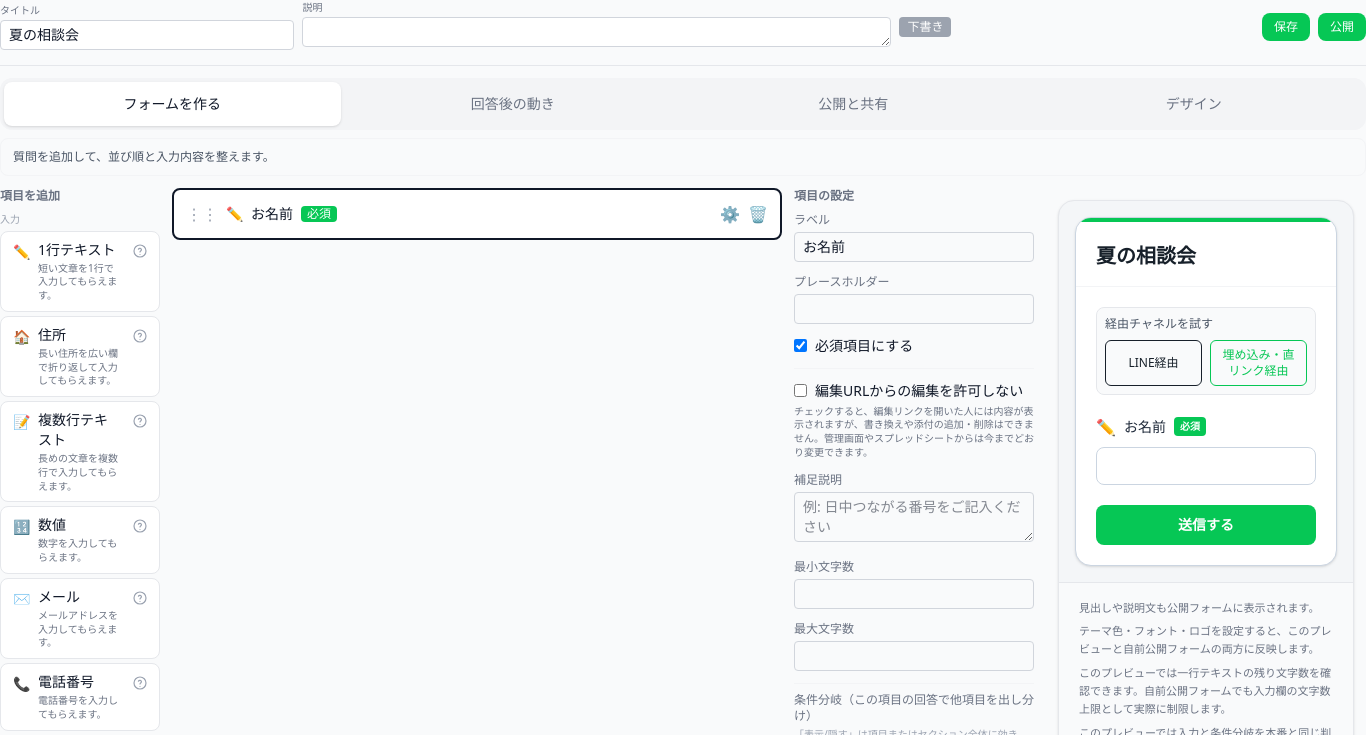
it: internal publish confirmation › keeps the modal open and never publishes when the preceding save is not confirmed
Click the button "公開". click: (1342, 26)
box: x1=1318 y1=12 x2=1365 y2=40
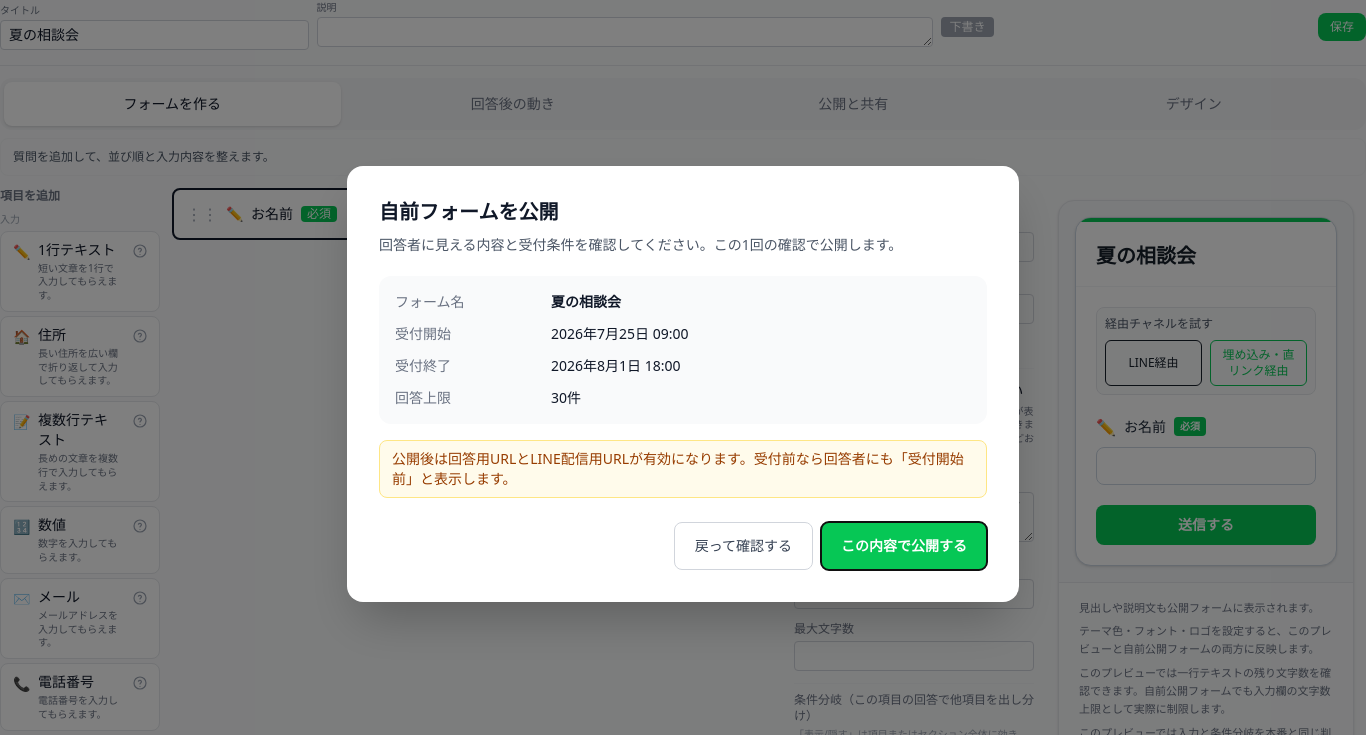
Click the button "この内容で公開する". click: (904, 546)
box: x1=821 y1=522 x2=987 y2=570
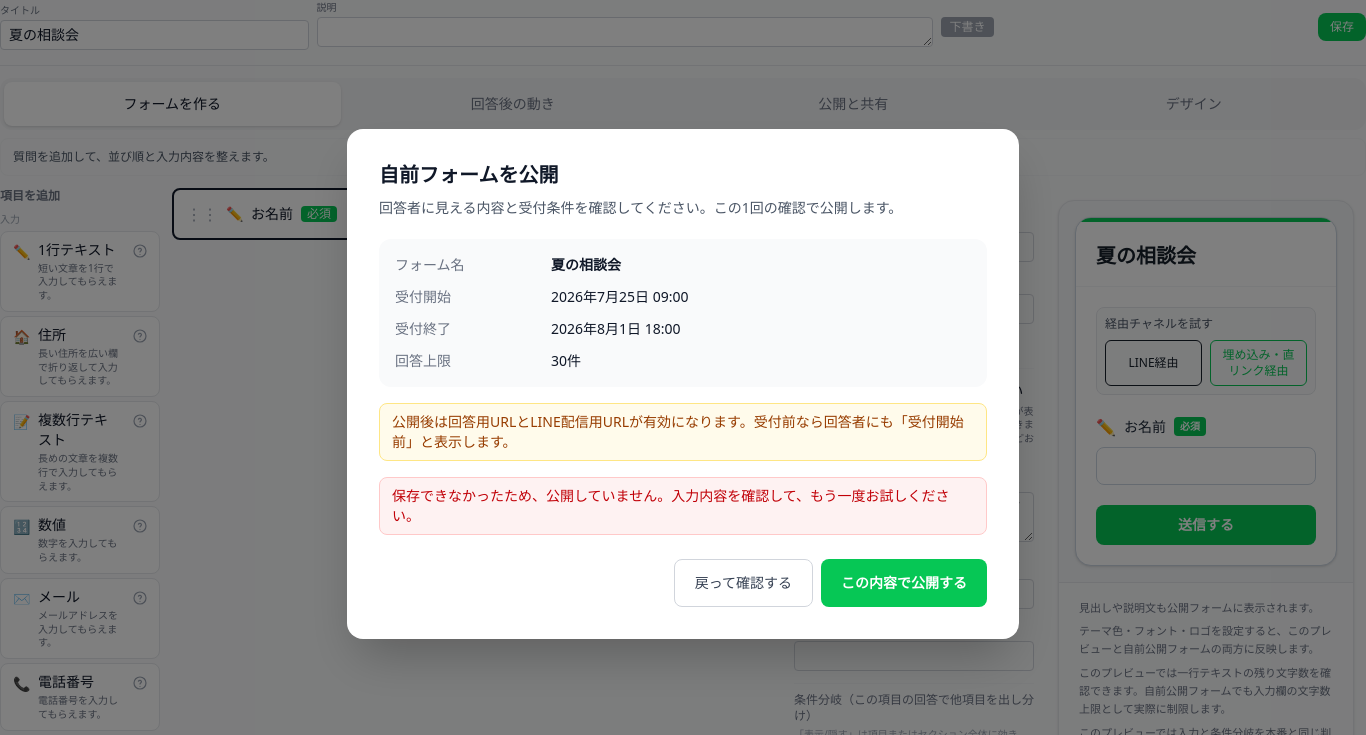
Now the dialog "自前フォームを公開" is shown, box x1=347 y1=129 x2=1019 y2=639
Now the message shows "公開していません", box x1=392 y1=486 x2=950 y2=525
